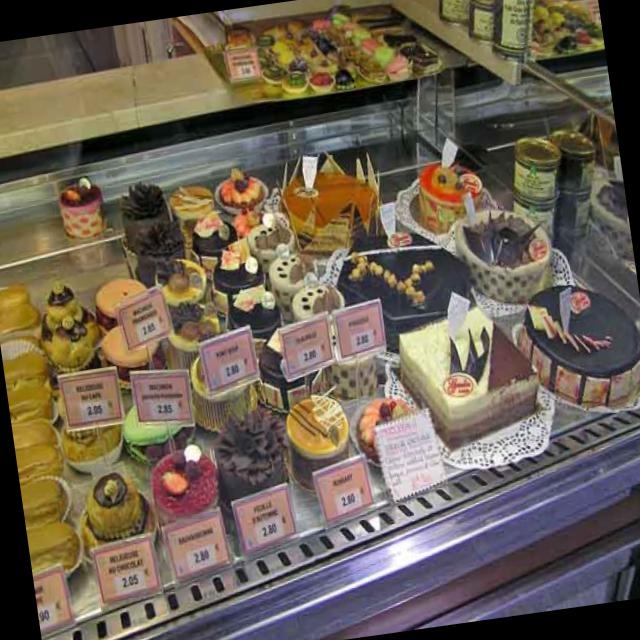bulletin board: (373, 409, 445, 499)
cake: (357, 394, 416, 459)
cake occluded: (398, 302, 537, 448), (337, 227, 467, 348), (516, 283, 640, 406), (453, 208, 550, 300), (279, 168, 380, 254), (215, 413, 286, 509), (80, 472, 152, 562), (282, 393, 349, 489), (151, 443, 216, 516), (417, 159, 480, 232), (323, 333, 379, 395), (188, 209, 240, 271), (57, 175, 106, 234), (217, 165, 263, 210)
cakes: (225, 5, 438, 94), (152, 254, 253, 427), (3, 349, 78, 580), (211, 243, 317, 406), (39, 277, 120, 469), (245, 218, 333, 323), (93, 273, 160, 382), (118, 181, 184, 282)
can: (511, 135, 557, 203), (493, 0, 532, 58)
counter bottom: (0, 0, 604, 159)
floor -X: (0, 19, 167, 83), (546, 0, 602, 52)
price: (160, 506, 230, 580), (91, 533, 161, 605), (229, 482, 298, 553), (310, 454, 371, 527), (58, 366, 121, 430), (197, 326, 258, 389), (129, 368, 193, 423), (332, 297, 386, 360)
showcase occluded: (0, 54, 640, 640)
tin box: (466, 0, 492, 44)
tray occluded: (221, 1, 468, 98)
